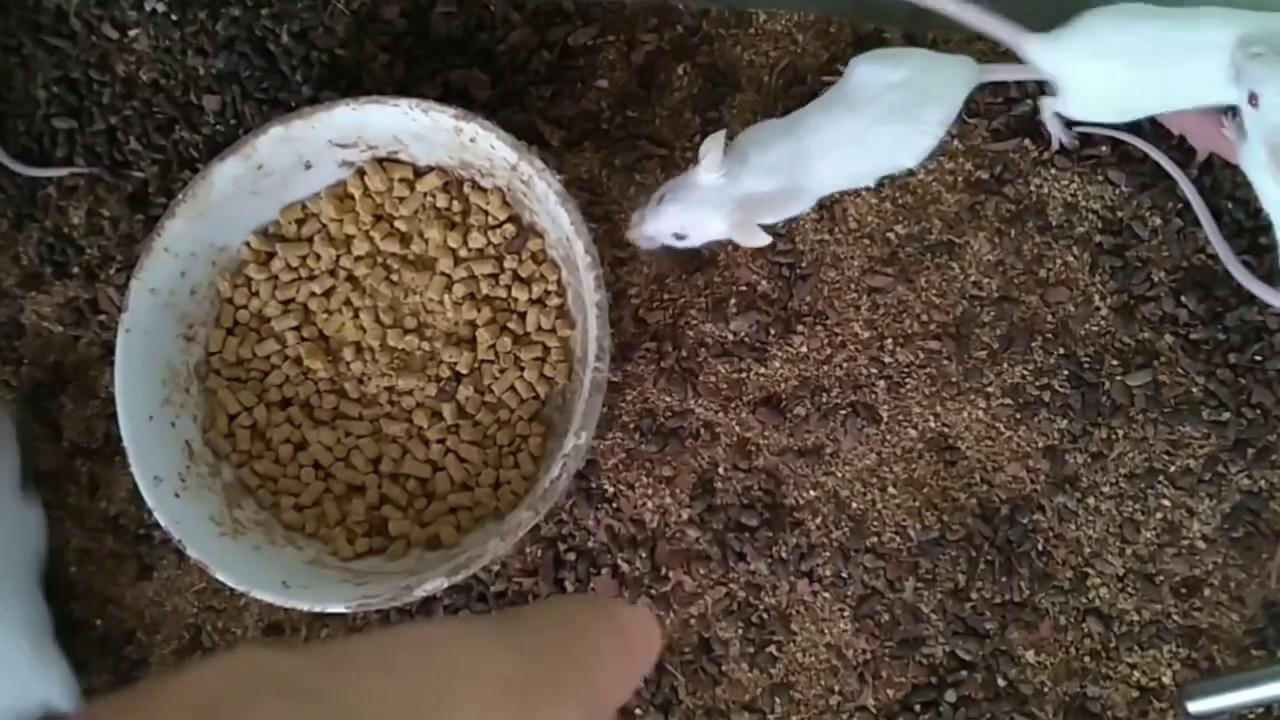rat: (628, 47, 1030, 253), (914, 0, 1280, 150), (0, 403, 85, 720), (1231, 24, 1280, 253)
